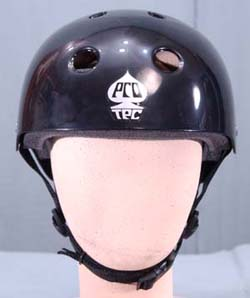helmet: (16, 24, 237, 168)
